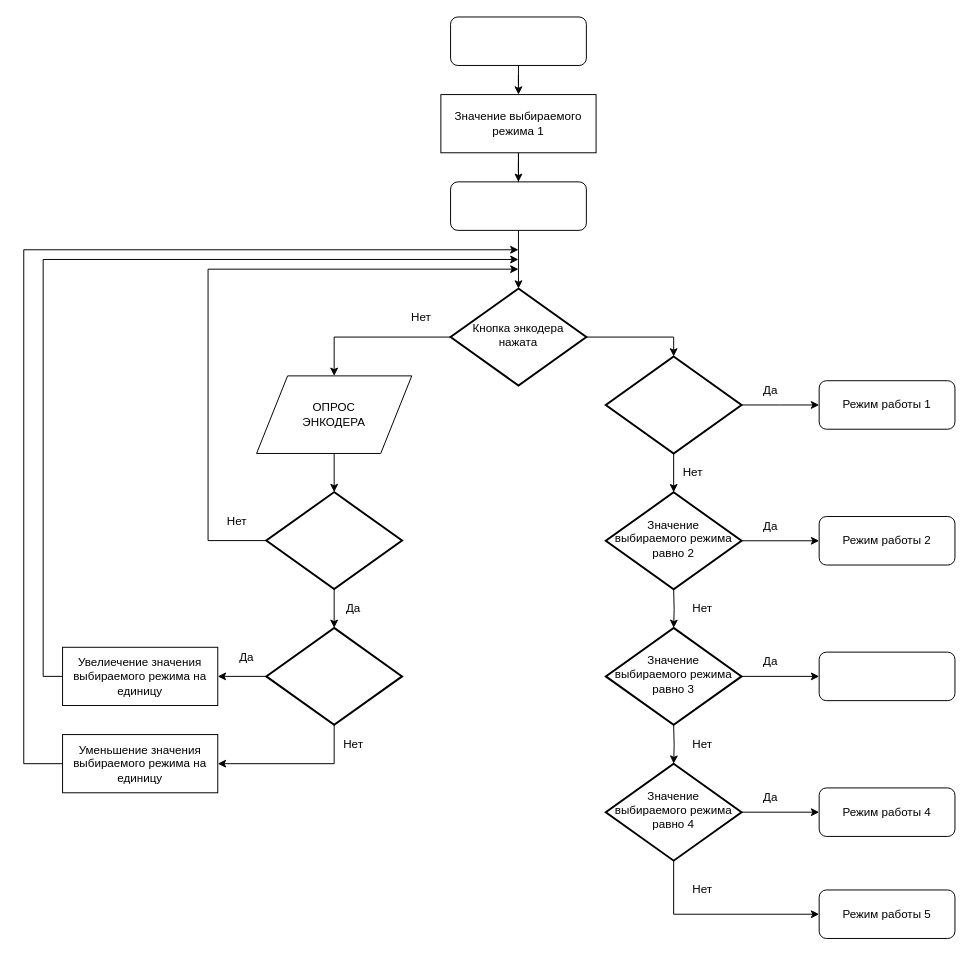
This 972x955 diagram has some shape labels left out. The shapes that lost their labels are listed below. From the top down, each one's centre as x and y in pixels, then its label:
At pixel 518 40: "Первоначальная настройка".
At pixel 518 205: "Выбор режима работы установки".
At pixel 673 404: "Значение выбираемого режима равно 1".
At pixel 334 540: "Значение изменилось".
At pixel 334 675: "Значение расстояния увеличелось".
At pixel 886 676: "Режим работы 3".
